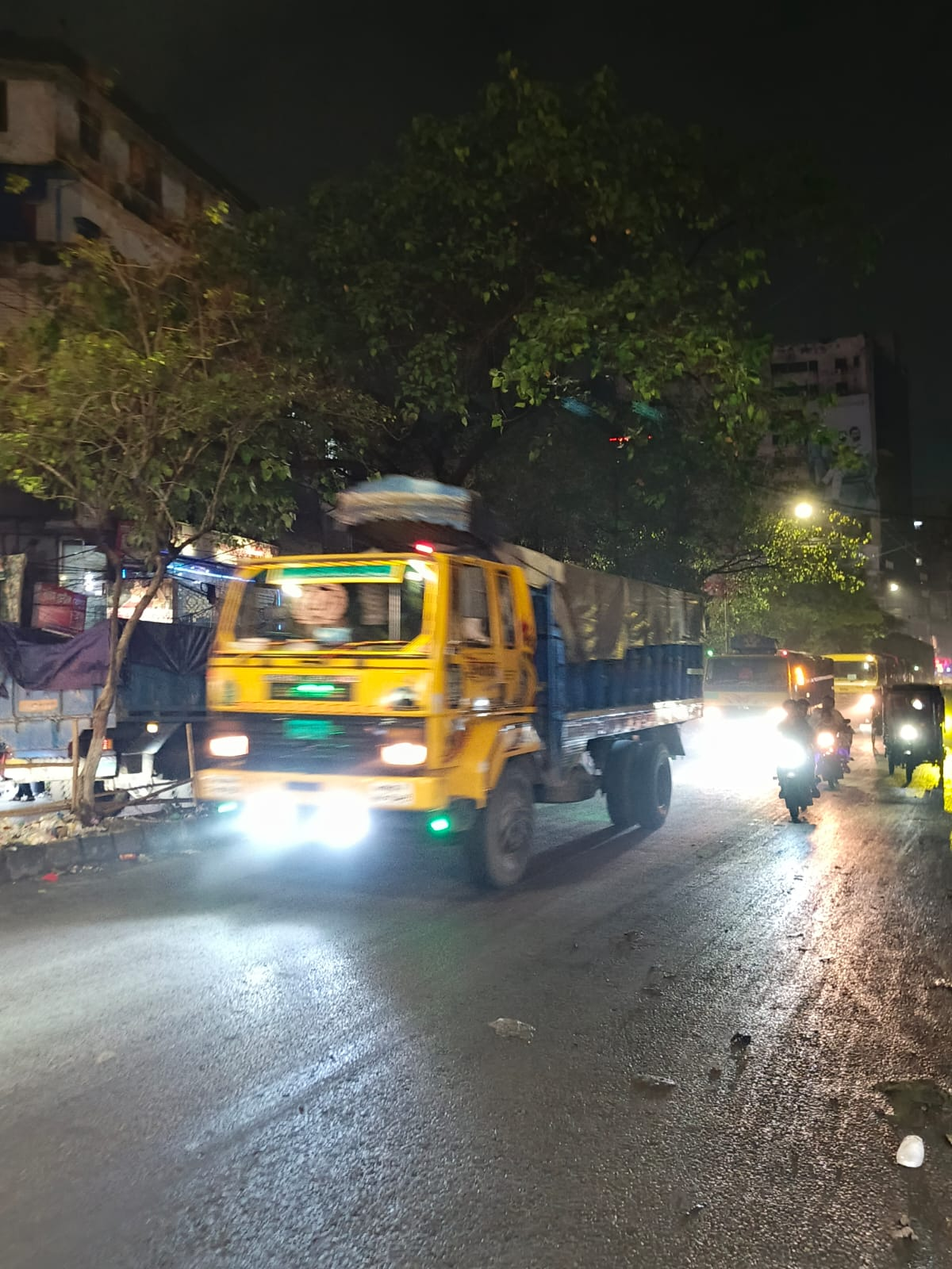Truck: (171, 461, 725, 912)
